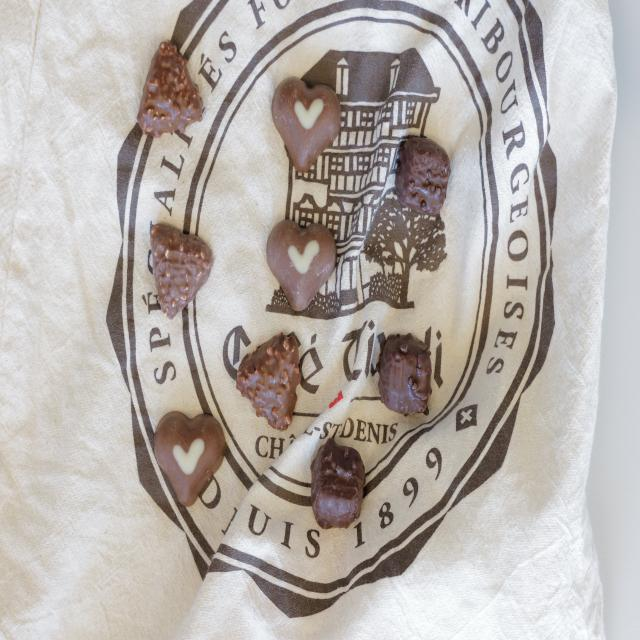Passion_au_lait: (270, 75, 341, 175), (154, 412, 225, 508), (266, 217, 337, 312)
Tentation_noir: (309, 436, 363, 528), (376, 332, 432, 418), (396, 136, 452, 216)
Triangolo: (235, 331, 302, 431), (136, 40, 203, 136), (149, 223, 211, 319)
